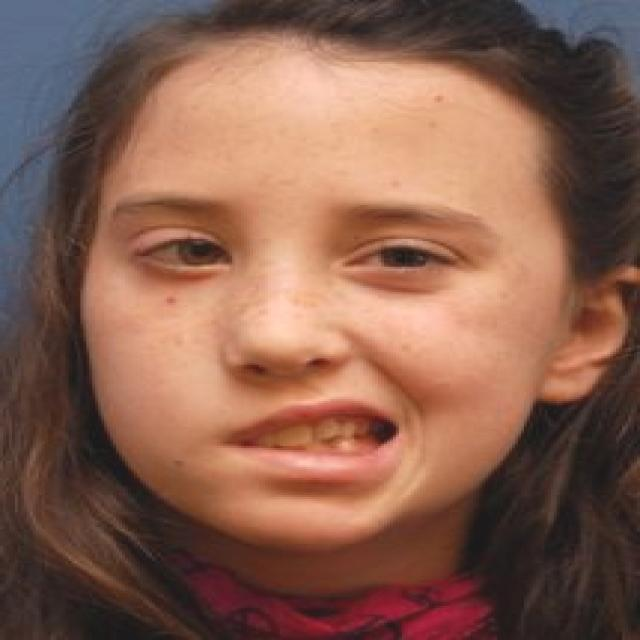stroke_face: (47, 6, 616, 554)
